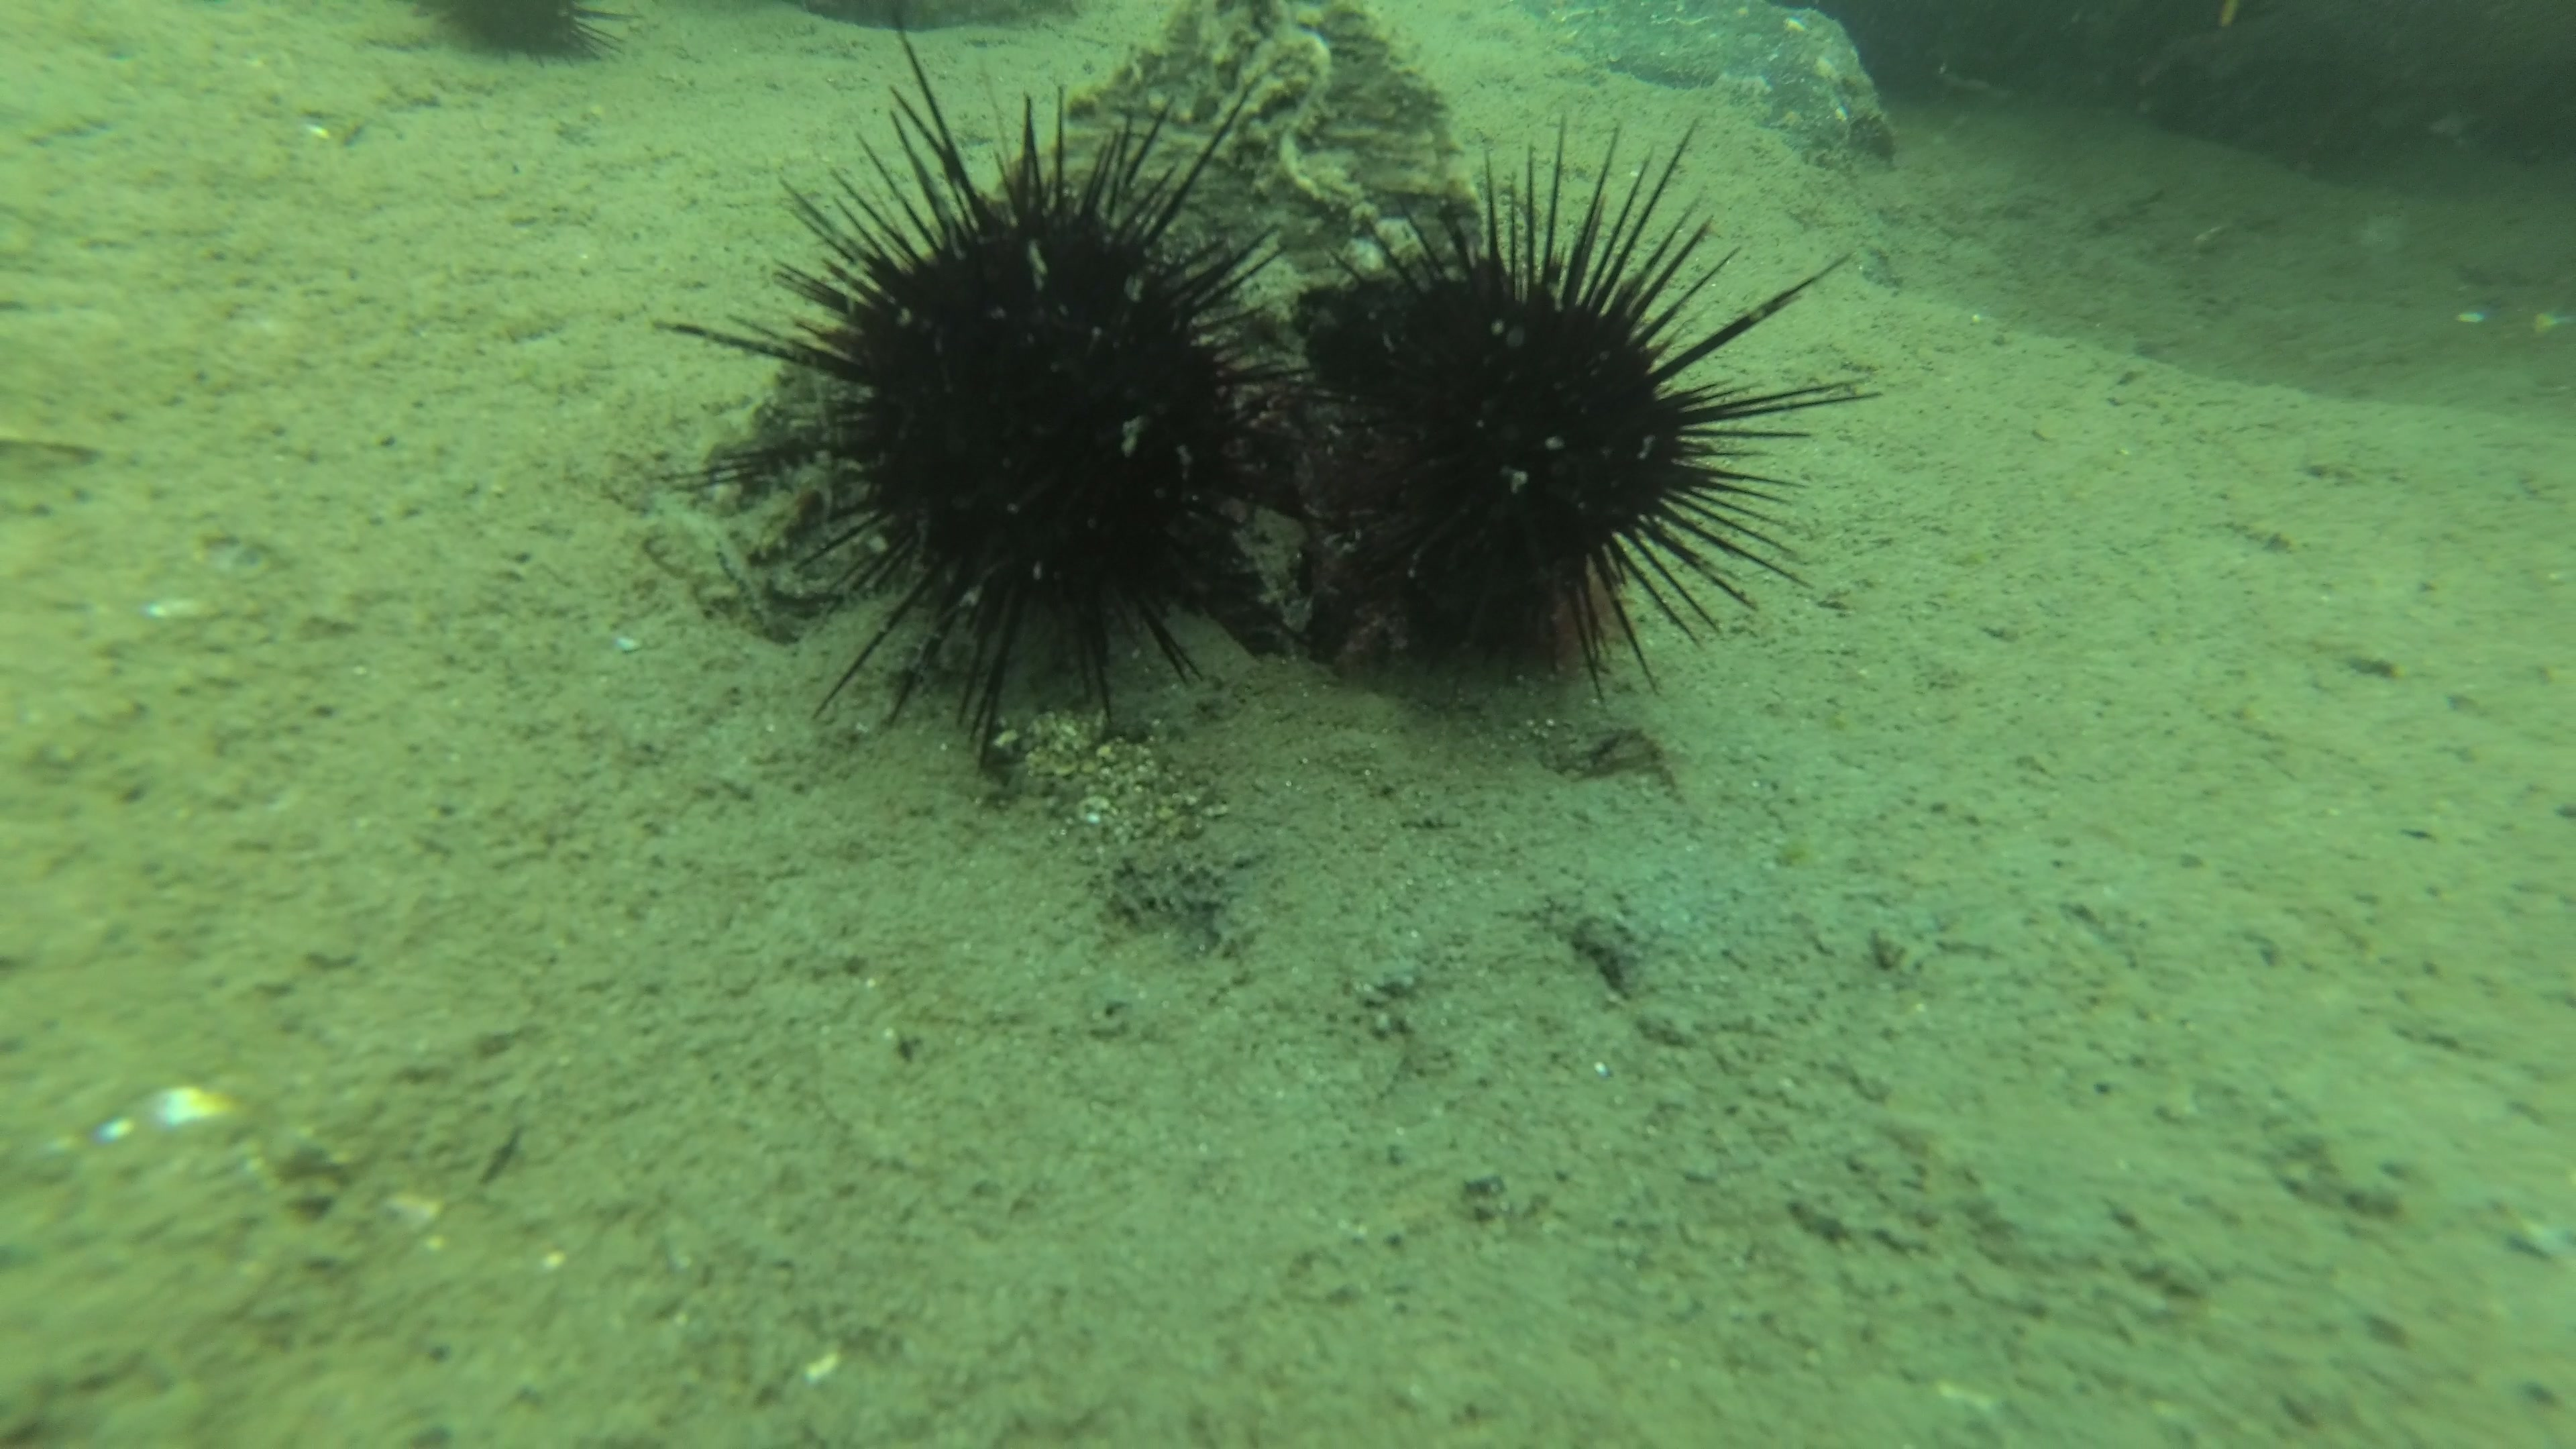echinus: (679, 16, 1336, 761), (1281, 113, 1874, 702), (393, 5, 630, 74)
